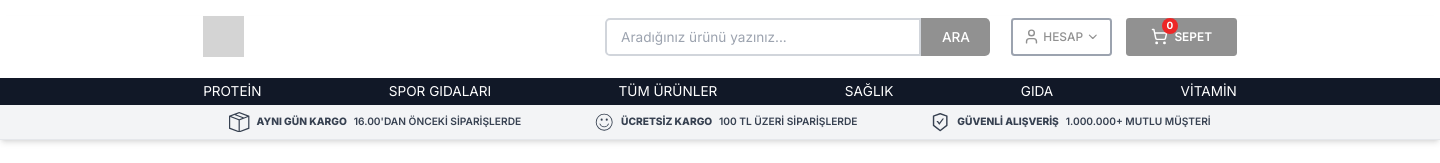
Test: Navbar › Kullanıcı giriş yapmadığında "Üye Girişi" linki görünmelidir
Hover over the text "HESAP": point(1062, 37) [1011,18,1112,56]
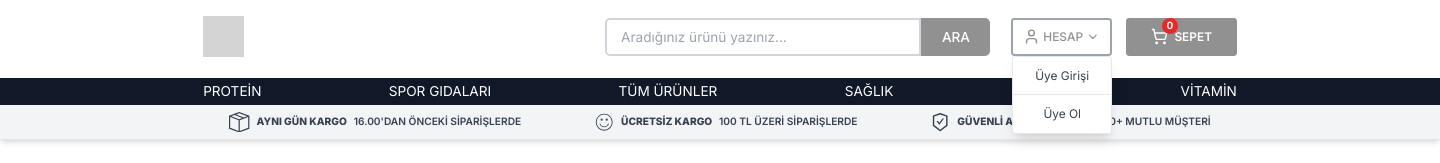
Expected: the link "Üye Girişi" is shown, [1013,57,1111,95]
